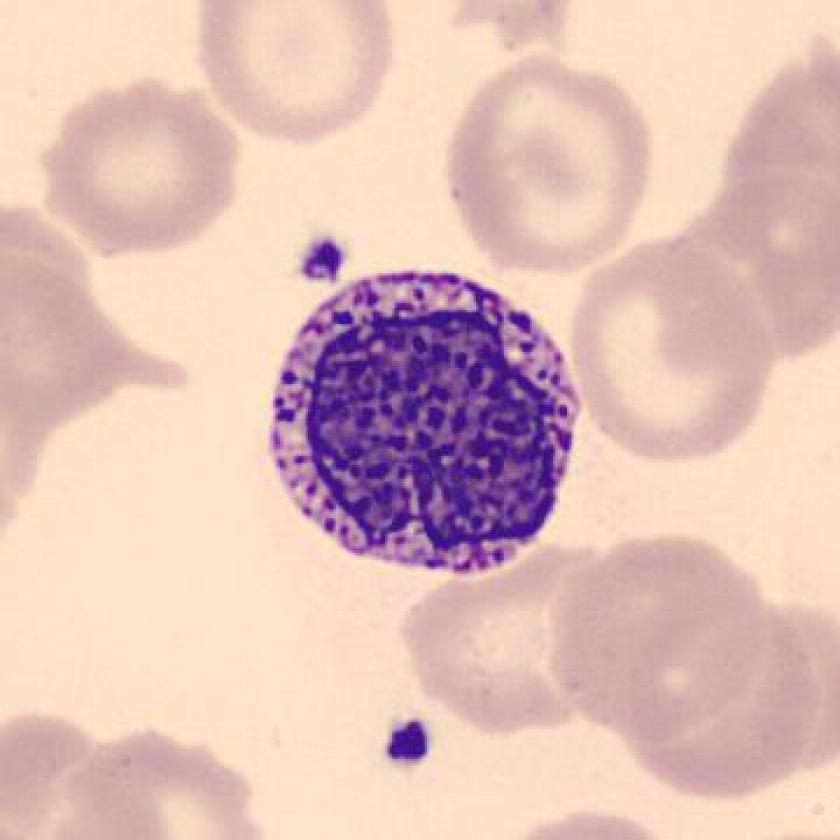basophil: (256, 251, 585, 593)
